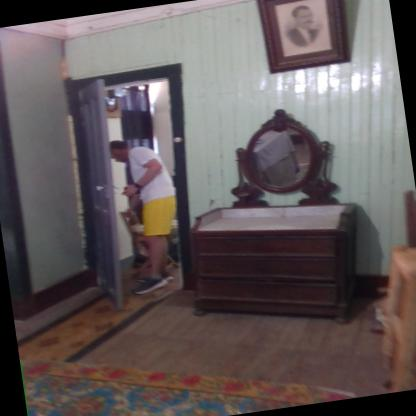semi: (51, 52, 221, 316)
